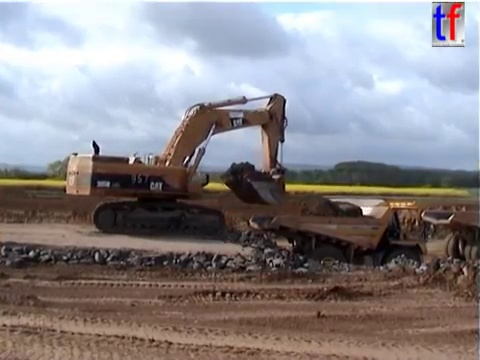excavator: (62, 90, 291, 239)
truck: (246, 196, 436, 287), (418, 207, 480, 271)
